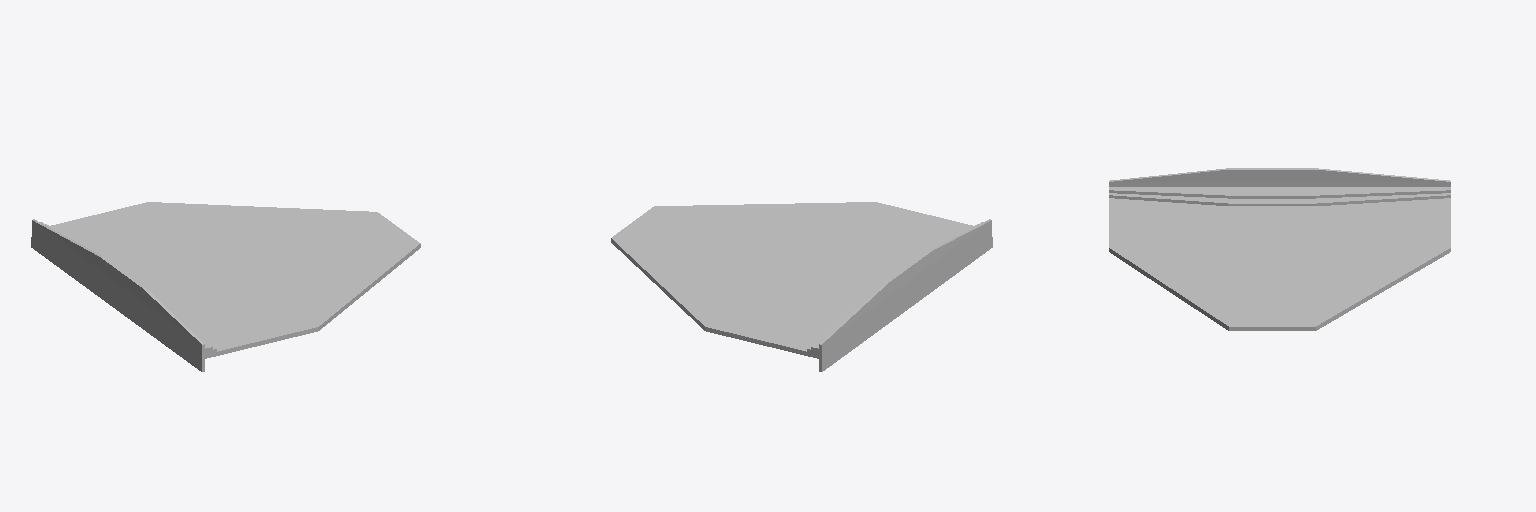
The model's file is courtyard.obj.
3 views of the same model, side by side, from view 1: azimuth 30°, elevation 25°; view 2: azimuth 150°, elevation 25°; view 3: azimuth 270°, elevation 25° (orthographic).
Visible parts, largest first — view 1: pCube1 courtyard, courtyard pCube4, courtyard pCube2; view 2: pCube1 courtyard, courtyard pCube4, courtyard pCube2; view 3: pCube1 courtyard, courtyard pCube4, courtyard pCube3, courtyard pCube2.
Boxes of the visible parts, x1=… form: pCube1 courtyard: x1=51, y1=202, x2=420, y2=358; courtyard pCube4: x1=31, y1=219, x2=204, y2=371; courtyard pCube2: x1=46, y1=224, x2=216, y2=353; pCube1 courtyard: x1=611, y1=202, x2=972, y2=358; courtyard pCube4: x1=819, y1=219, x2=992, y2=371; courtyard pCube2: x1=807, y1=224, x2=977, y2=353; pCube1 courtyard: x1=1109, y1=198, x2=1450, y2=330; courtyard pCube4: x1=1109, y1=168, x2=1450, y2=186; courtyard pCube3: x1=1109, y1=187, x2=1450, y2=198; courtyard pCube2: x1=1109, y1=193, x2=1450, y2=205.
Bounding box in the file's own units: 117 × 16.22 × 125.